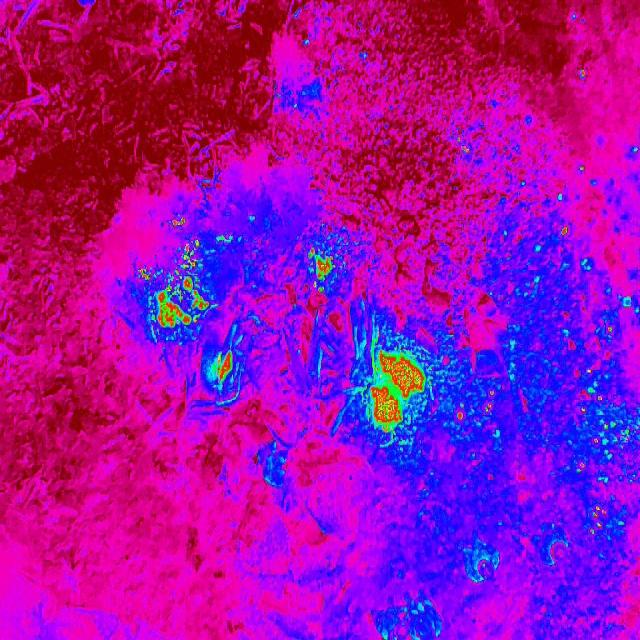fire: (531, 218, 640, 544), (137, 237, 214, 336), (362, 345, 431, 436), (198, 344, 246, 398), (452, 382, 499, 428), (308, 248, 337, 293), (163, 211, 191, 231), (455, 133, 474, 158), (574, 63, 590, 85)
